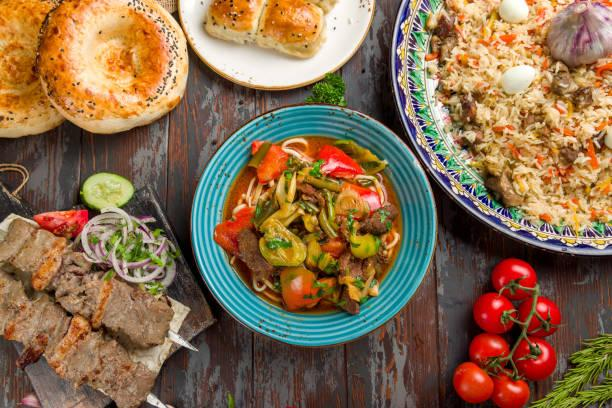Braised Crucian Carp: (187, 105, 430, 346), (390, 1, 612, 257), (3, 174, 217, 406)
